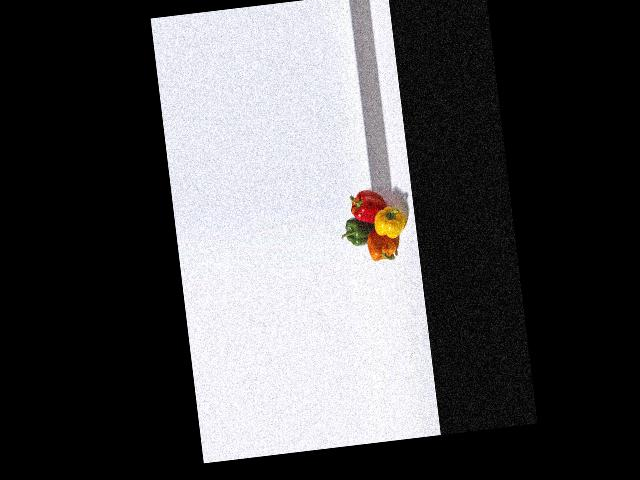bell_pepper: (345, 186, 387, 225)
